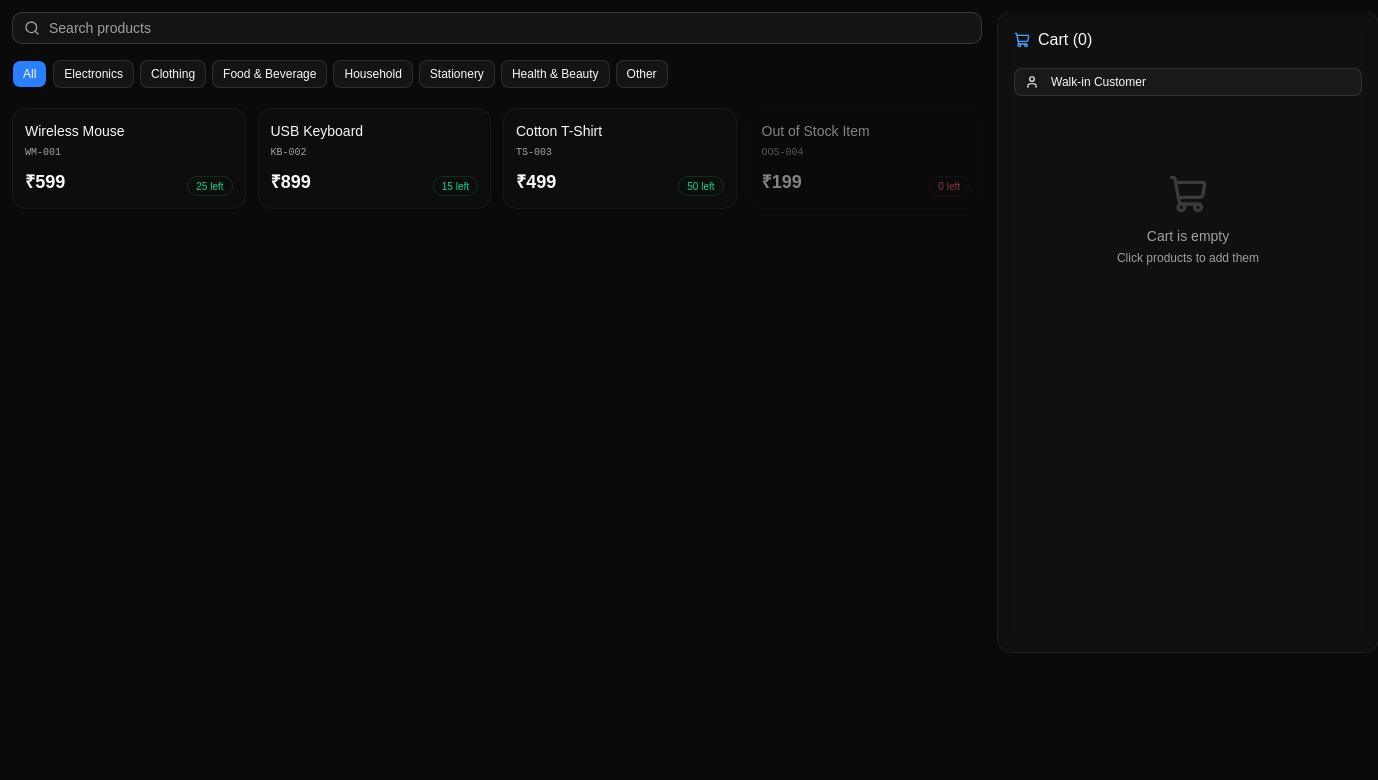
Test: POS Page — Cart Operations › adds product to cart on click
Expected: the text "Wireless Mouse" is shown, [25,123,125,139]
Click the button "Wireless Mouse WM-001 ₹599 25 left".
click(129, 158)  # box [12,108,246,209]
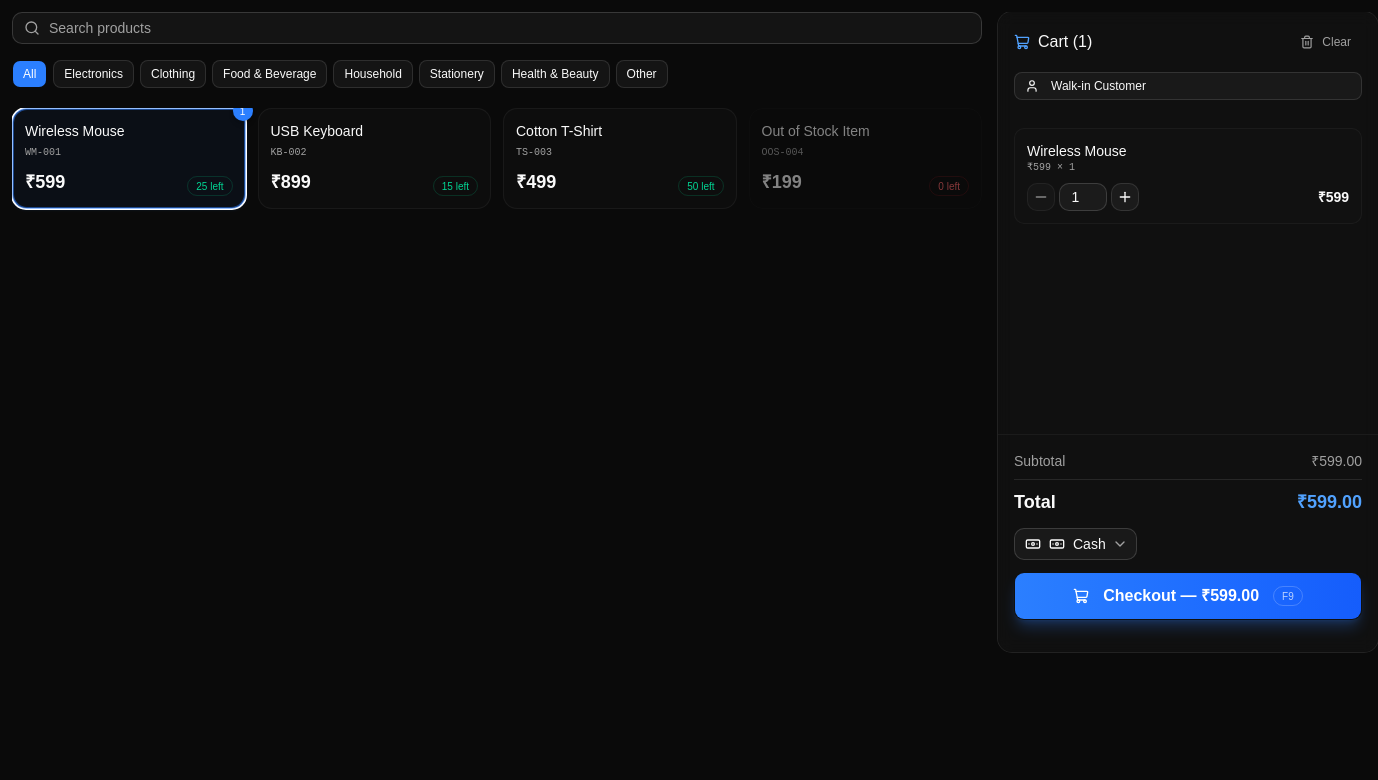
Expected: the 1st text "Wireless Mouse" is shown, [25,123,125,139]
Result: the text "Cart (1)" is shown at [1014,30,1092,54]
